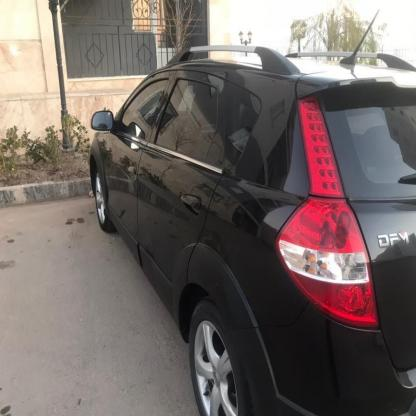Car: (83, 41, 416, 416)
